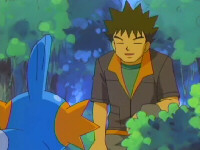mudkip: (1, 33, 97, 148)
